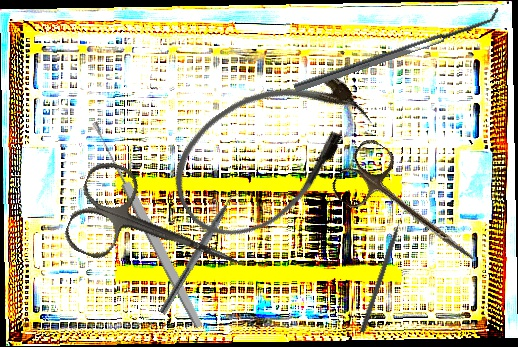Cannula: (151, 45, 388, 260)
Chopper: (159, 185, 247, 320)
Iris Scissors: (60, 155, 259, 311), (326, 134, 497, 285)
Pusher: (359, 209, 408, 334)
Spatula Surgical: (290, 5, 503, 93)
Surgical Spoon: (88, 119, 206, 330)
